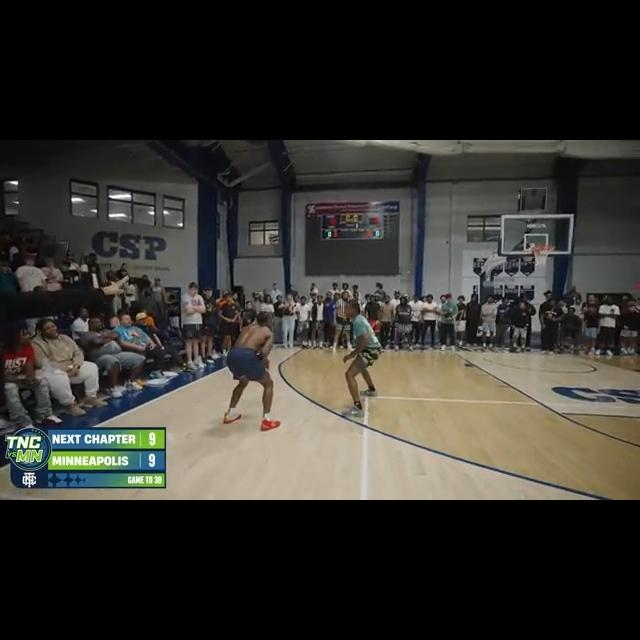hoop: (533, 243, 552, 266)
